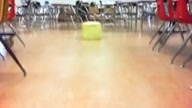cube: (82, 21, 102, 40)
